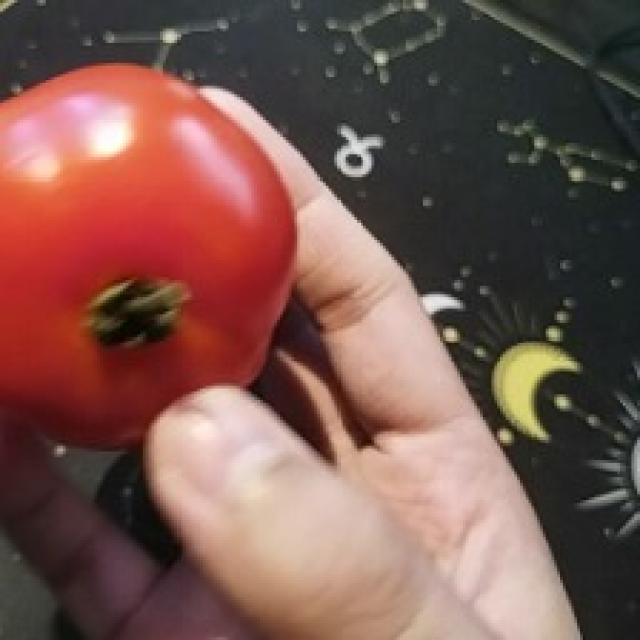tomato: (0, 63, 297, 451)
